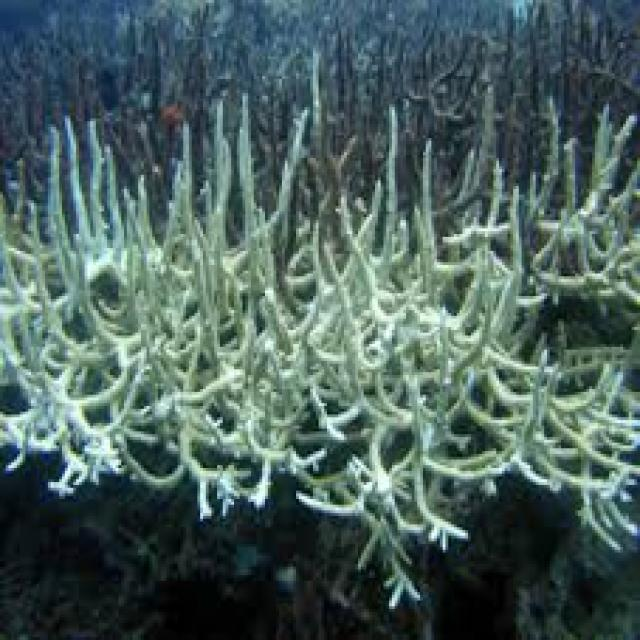Bleached: (1, 115, 640, 459), (322, 424, 483, 597), (34, 444, 335, 519), (517, 416, 640, 554), (460, 446, 528, 509)
